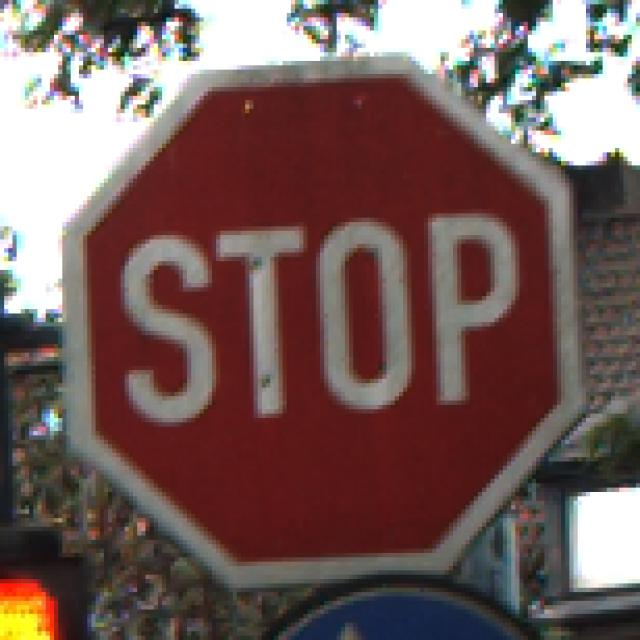STOP: (59, 53, 587, 589)
